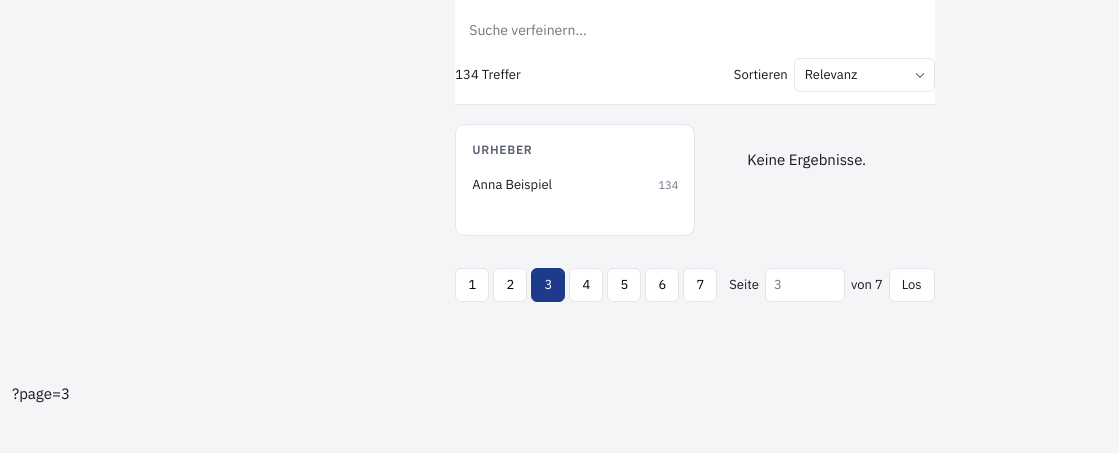
it: SearchPage filters and pagination › rejects invalid input 8 without changing the page
This screenshot has width=1119, height=453.
Type "8" into the number field labelled "Seite" at point(805, 285), box [765,268,845,302]
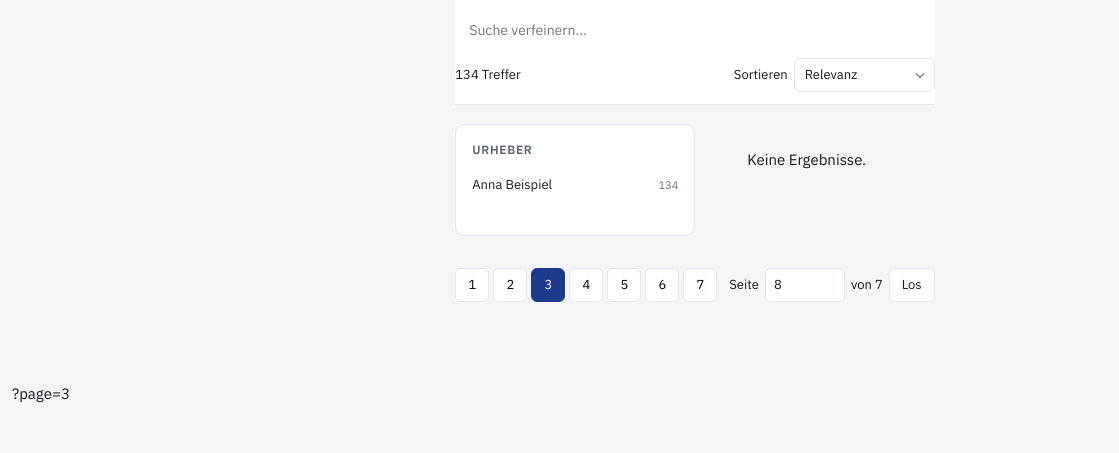
Submit the form "Seite", box [729,268,935,302]
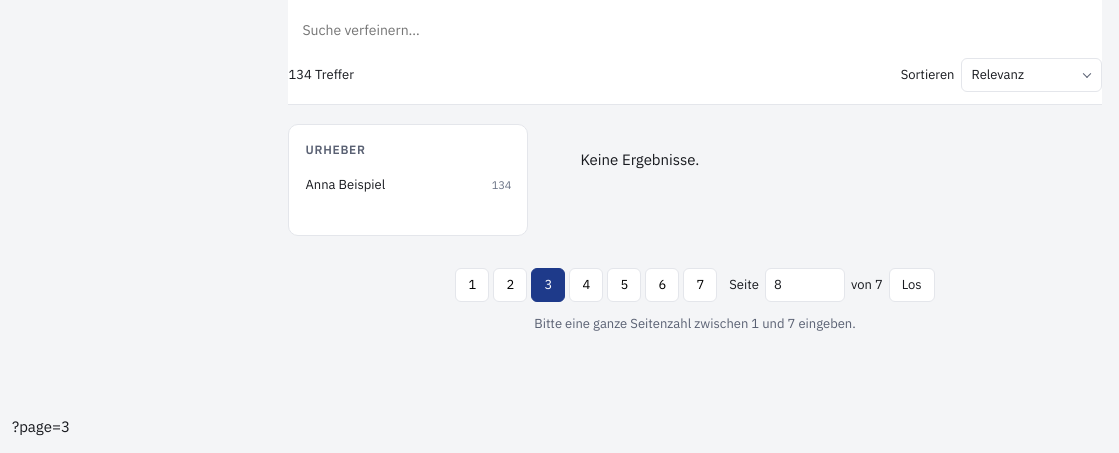
Expected: the message reads "Bitte eine ganze Seitenzahl zwischen 1 und 7 eingeben.", [534,315,856,332]
